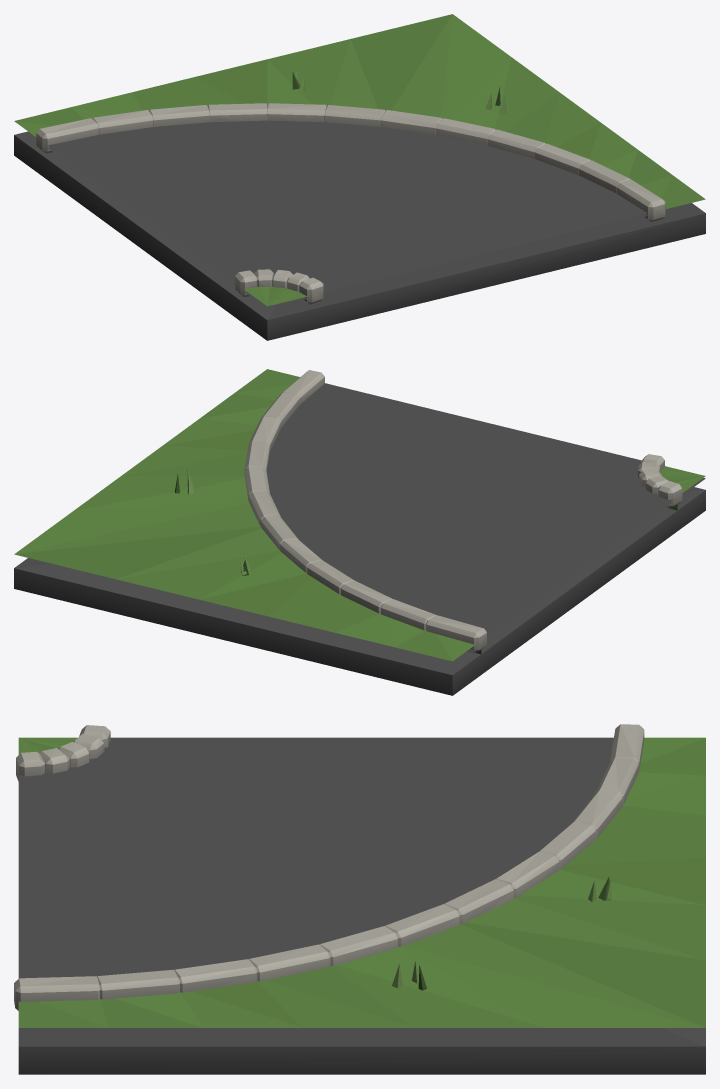
File: street-corner.glb
The picture shows the model from 3 angles, top to bottom: view 1: azimuth 30°, elevation 25°; view 2: azimuth 150°, elevation 25°; view 3: azimuth 270°, elevation 25°; orthographic projection. The views are drawn at different scales.
Visible parts, largest first — view 1: street_corner; view 2: street_corner; view 3: street_corner.
Boxes of the visible parts, x1,y1,x2,y2 form: street_corner: (14,14,705,340); street_corner: (14,369,705,695); street_corner: (14,724,705,1074).
Size of the model in its own units: 4.03 by 0.4608 by 4.03.
